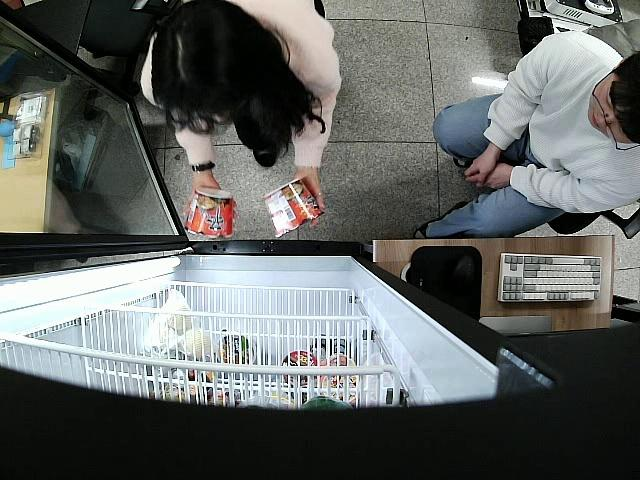00_hand: (182, 179, 239, 233), (291, 169, 327, 231)
01_shinRamen_L: (265, 179, 323, 237), (185, 188, 235, 239)
